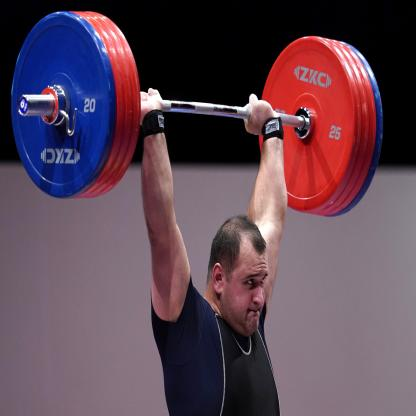barbell: (12, 12, 112, 200), (260, 36, 358, 214)
